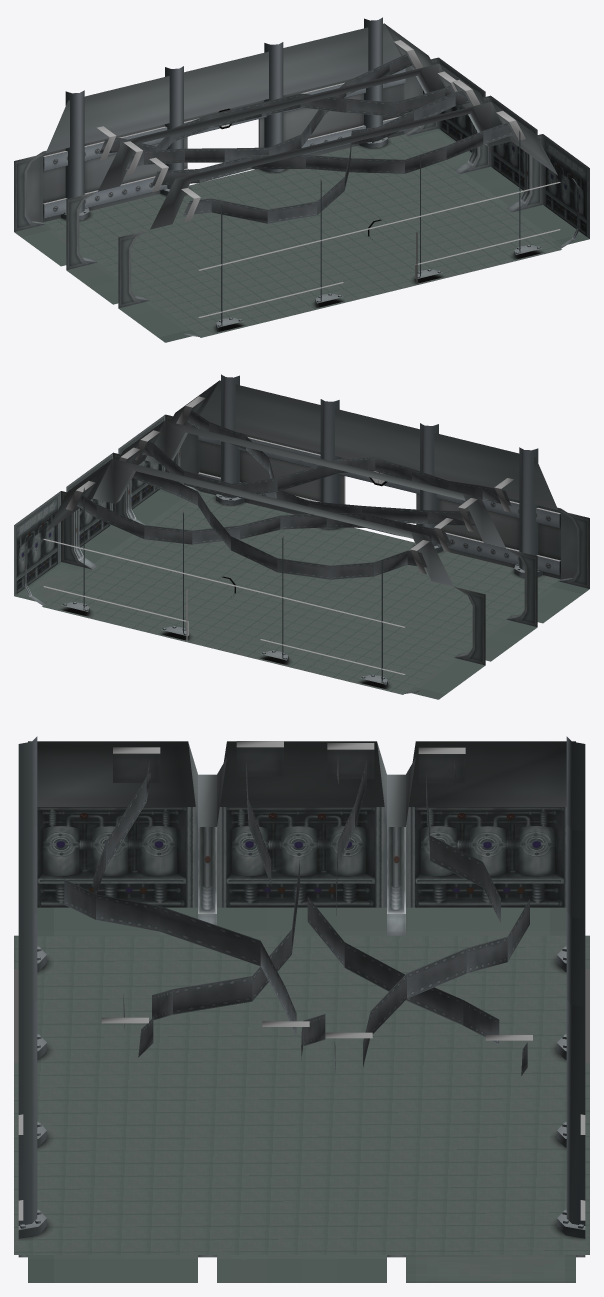
File: suit_interior.glb
3 renders of one model, top to bottom at view 1: azimuth 30°, elevation 25°; view 2: azimuth 150°, elevation 25°; view 3: azimuth 270°, elevation 25°, orthographic. The views are drawn at different scales.
Visible parts, largest first — view 1: main_floor, ceiling, south_panel_wall, right_wall, north_panel_wall, pipe1, support2, pipe2, pipe3, support1, pipe4, o101_4 (+7 smaller); view 2: main_floor, ceiling, south_panel_wall, left_wall, north_panel_wall, pipe4, pipe2, support1, pipe3, support2, pipe1, o91 (+6 smaller); view 3: main_floor, north_panel_wall, ceiling, pipe2, pipe3, pipe4, pipe1, o101_9, o101_5, o101_10, o101_6, o101_8 (+9 smaller).
Part boxes in pixels (box(x1,y1,x2,y2)): main_floor: box(14, 128, 589, 342); ceiling: box(46, 23, 557, 175); south_panel_wall: box(404, 57, 589, 248); right_wall: box(43, 78, 404, 222); north_panel_wall: box(14, 151, 198, 336); pipe1: box(151, 123, 513, 185); support2: box(150, 102, 511, 229); pipe2: box(183, 90, 469, 223); pipe3: box(99, 85, 453, 153); support1: box(98, 63, 444, 191); pipe4: box(125, 54, 412, 169); o101_4: box(61, 90, 89, 220); main_floor: box(14, 489, 589, 699); ceiling: box(46, 380, 557, 532); south_panel_wall: box(14, 414, 199, 605); left_wall: box(199, 432, 560, 579); north_panel_wall: box(405, 508, 589, 693); pipe4: box(77, 495, 451, 546); pipe2: box(142, 442, 511, 505); support1: box(92, 459, 453, 586); pipe3: box(127, 461, 427, 579); support2: box(145, 420, 505, 548); pipe1: box(187, 410, 475, 525); o91: box(198, 435, 560, 528); main_floor: box(14, 907, 589, 1282); north_panel_wall: box(37, 807, 566, 935); ceiling: box(28, 741, 575, 806); pipe2: box(64, 760, 325, 1061); pipe3: box(334, 761, 529, 1072); pipe4: box(307, 754, 527, 1076); pipe1: box(123, 758, 299, 1057); o101_9: box(18, 1000, 46, 1238); o101_5: box(557, 1000, 585, 1238); o101_10: box(18, 912, 46, 1147); o101_6: box(557, 912, 585, 1147); o101_8: box(18, 824, 46, 1059).
Size of the model in its own units: 94 by 26.59 by 61.
Materials: 12 (9 with a texture image).
